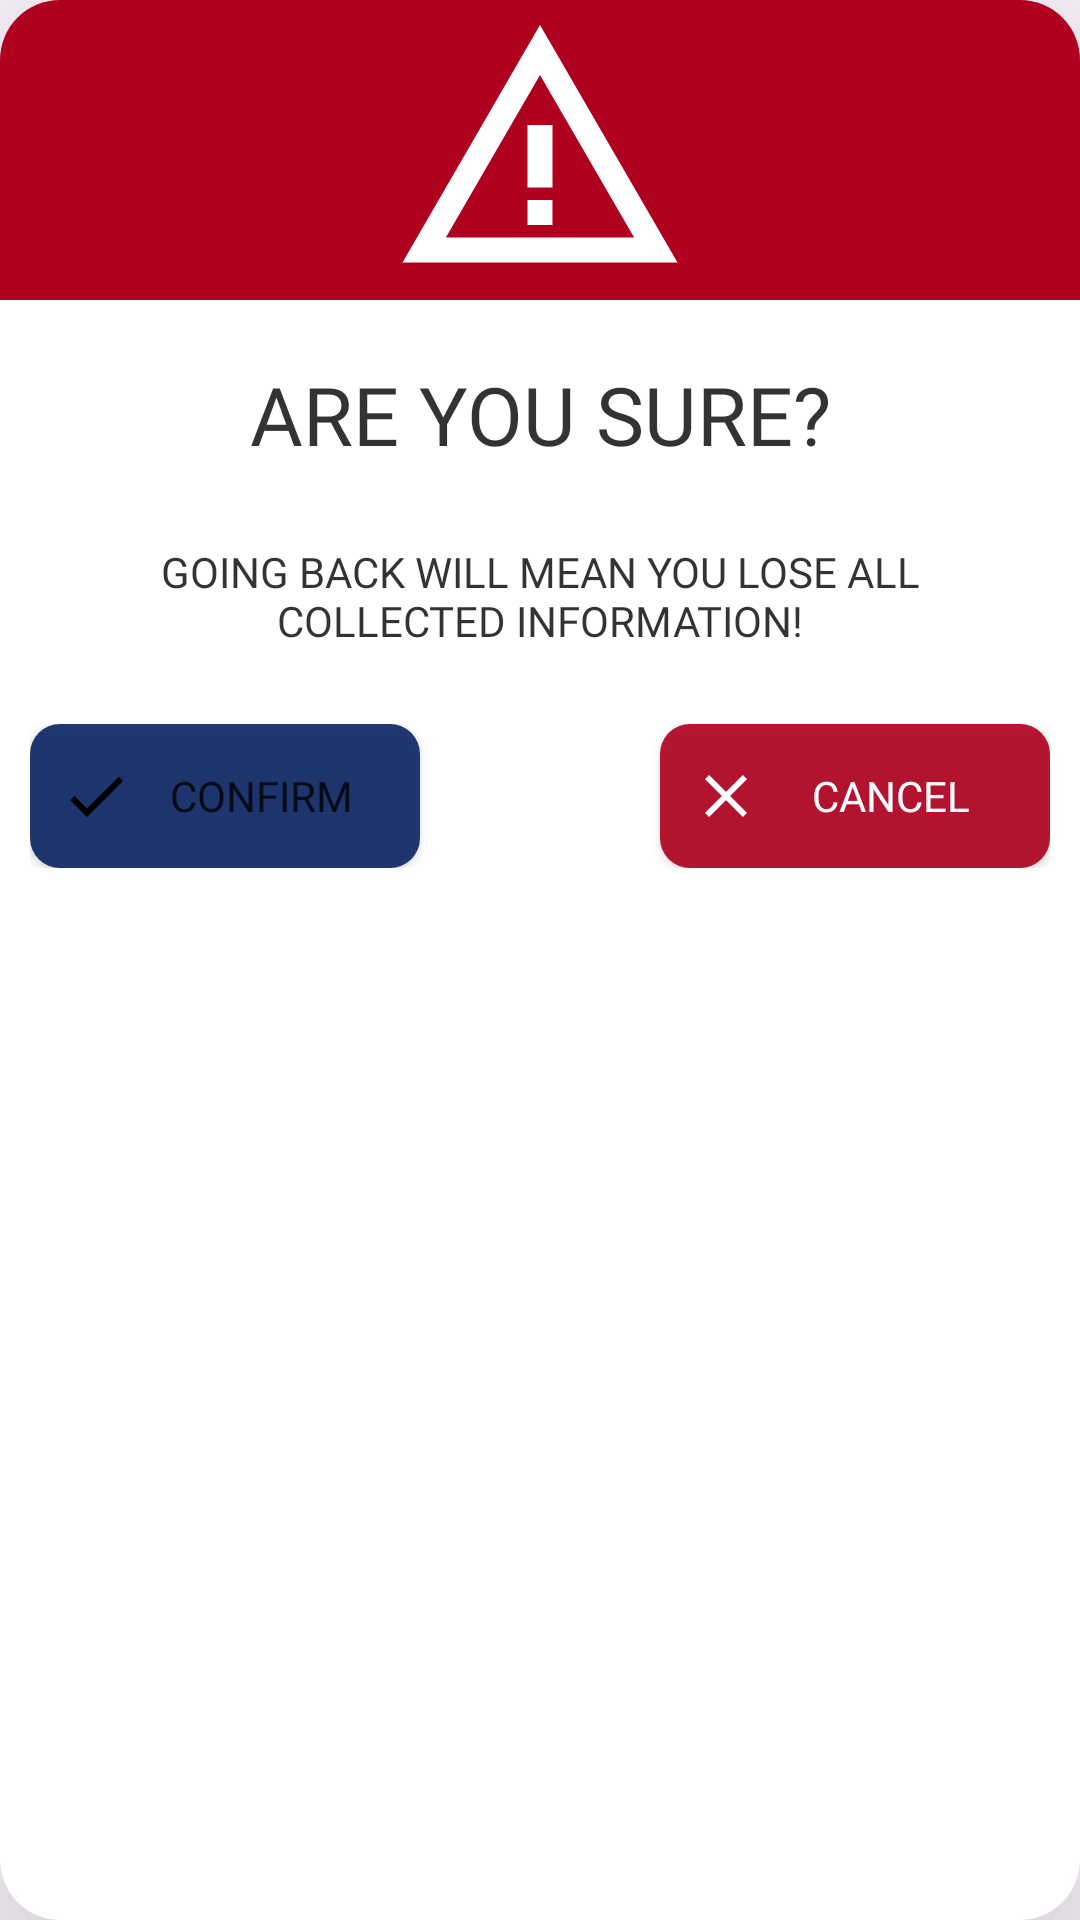

Icon bounding boxes for this 1080 x 1920 phone screenshot, format (x1, y1, x2, y2):
warning icon: (402, 25, 678, 263)
